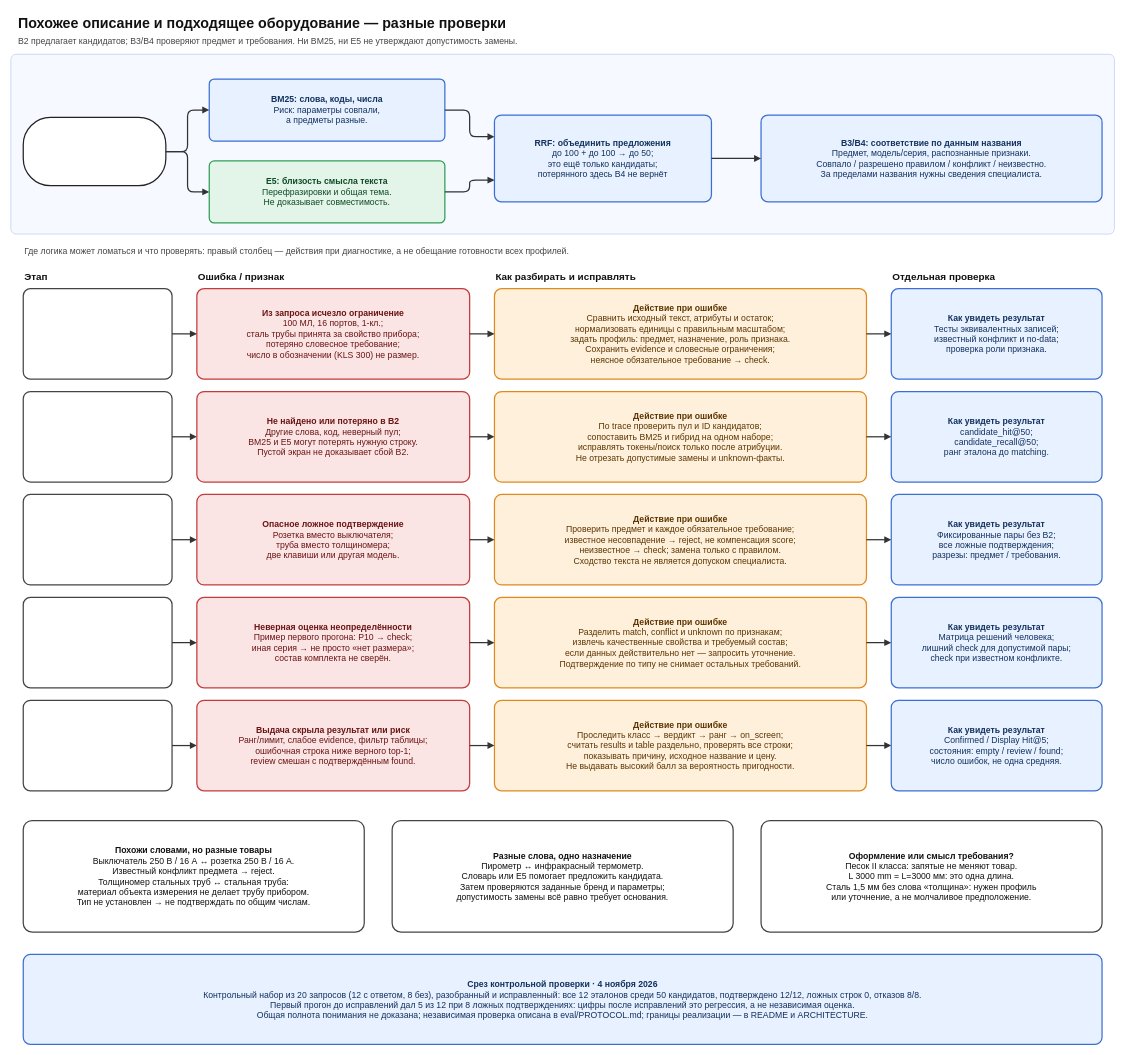
Image size: 1126x1055. Some labels were removed from this diagram. Here are the shapes that lost their labels. From the top down, the box of each, then its label:
(22, 117, 166, 186): Запрос и его разбор какой предмет нужен; что обязательно
(10, 54, 1115, 234): ДВА СПОСОБА НАЙТИ → ОДИН МЕХАНИЗМ ТЕХНИЧЕСКОГО РЕШЕНИЯ
(22, 288, 172, 379): A3–A5 / B1: разбор Не распознано требование: число, единица, слово, роль.
(22, 391, 172, 482): B2: набор кандидатов Эталон не попал в top-50. B4 его уже не оценит.
(22, 494, 172, 585): B3/B4: сравнение Похожие параметры скрывают другой товар.
(22, 596, 172, 688): B4/B6: уверенность Все сведения есть, но check; конфликт назван неизвестным.
(22, 699, 172, 791): B5–B7: отбор и вывод Кандидат проверен, но нужная строка не показана.
